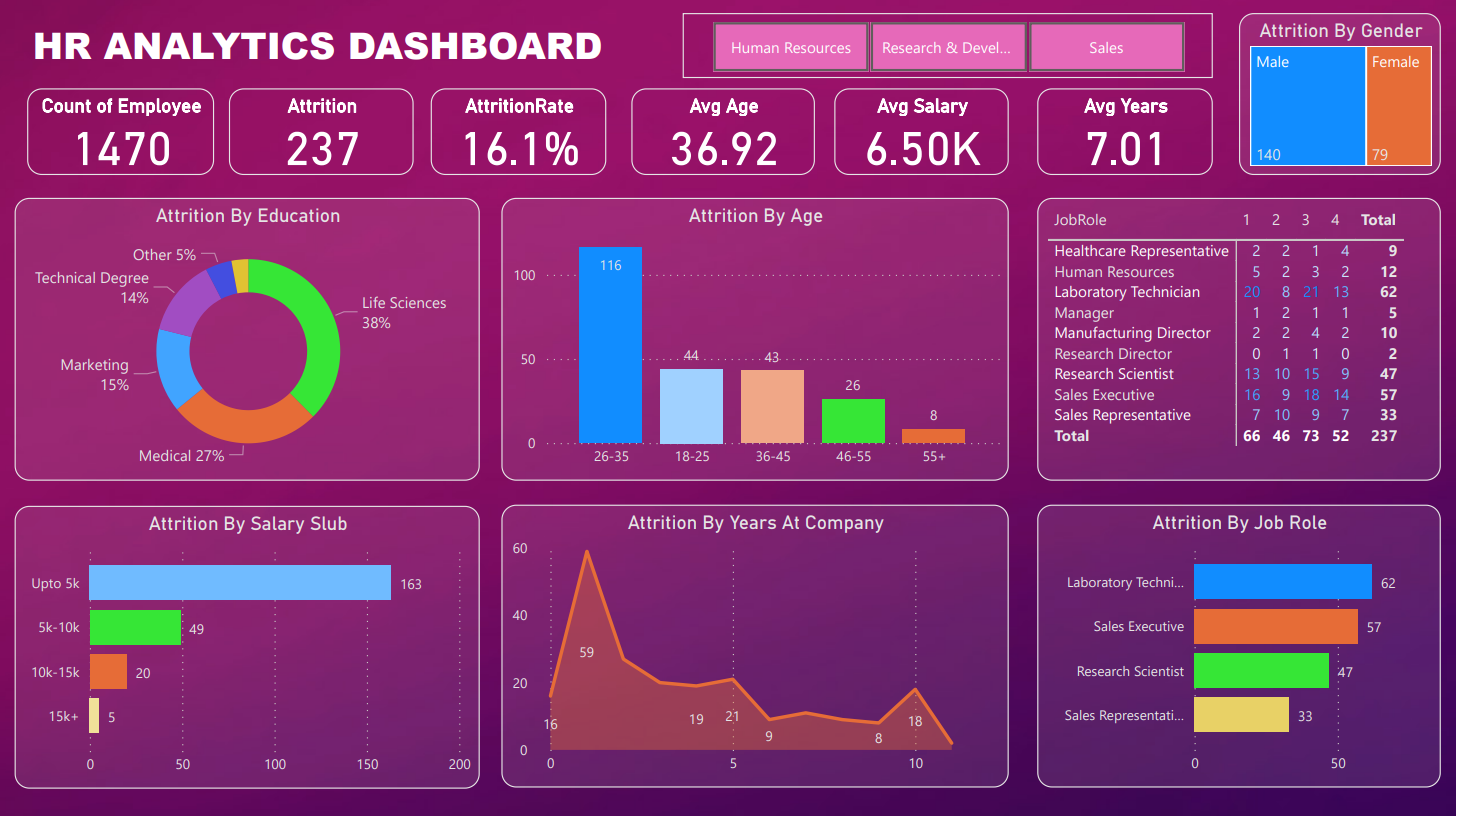

Layout of this report page (visuals, bound fields, positions):
{"tool":"powerbi","page":{"name":"Page 1","canvas":[1280,720],"ordinal":0},"visuals":[{"type":"card","title":"Count of Employee","fields":{"Values":["CountNonNull(HR_Analytics.EmpID)"]},"box":[27.4,78.1,163.2,75.4],"z":0},{"type":"card","title":"Attrition","fields":{"Values":["Sum(HR_Analytics.AttritionCount)"]},"box":[204.3,78.1,161.8,75.4],"z":1000},{"type":"card","title":"AttritionRate","fields":{"Values":["HR_Analytics.AttritionRate"]},"box":[381.4,78.4,153.6,75.4],"z":2000},{"type":"card","title":"Avg Age","fields":{"Values":["Avg(HR_Analytics.Age)"]},"box":[556.6,78.1,161.8,75.4],"z":3000},{"type":"card","title":"Avg Salary","fields":{"Values":["Avg(HR_Analytics.MonthlyIncome)"]},"box":[734.9,78.1,153.6,75.4],"z":4000},{"type":"card","title":"Avg Years","fields":{"Values":["Avg(HR_Analytics.YearsAtCompany)"]},"box":[913.1,78.1,153.6,75.4],"z":5000},{"type":"donutChart","title":"Attrition By Education","fields":{"Category":["HR_Analytics.EducationField"],"Y":["Sum(HR_Analytics.AttritionCount)"]},"box":[16.5,174.1,407.2,248.2],"z":6000},{"type":"columnChart","title":"Attrition By Age","fields":{"Category":["HR_Analytics.AgeGroup"],"Y":["Sum(HR_Analytics.AttritionCount)"]},"box":[442.8,174.1,445.6,248.2],"z":7000},{"type":"pivotTable","fields":{"Rows":["HR_Analytics.JobRole"],"Columns":["HR_Analytics.JobSatisfaction"],"Values":["Sum(HR_Analytics.AttritionCount)"]},"box":[913.1,174.1,353.7,248.2],"z":8000},{"type":"barChart","title":"Attrition By Salary Slub","fields":{"Category":["HR_Analytics.SalarySlab"],"Y":["Sum(HR_Analytics.AttritionCount)"]},"box":[16.5,444.2,407.2,248.2],"z":9000},{"type":"barChart","title":"Attrition By Job Role","fields":{"Category":["HR_Analytics.JobRole"],"Y":["Sum(HR_Analytics.AttritionCount)"]},"box":[913.1,442.8,353.7,248.2],"z":10000},{"type":"stackedAreaChart","title":"Attrition By Years At Company","fields":{"Category":["HR_Analytics.YearsAtCompany"],"Y":["Sum(HR_Analytics.AttritionCount)"]},"box":[442.8,442.8,445.6,248.2],"z":11000},{"type":"treemap","title":"Attrition By Gender","fields":{"Group":["HR_Analytics.Gender"],"Values":["Sum(HR_Analytics.AttritionCount)"]},"box":[1090,12.3,176.9,141.2],"z":12000},{"type":"slicer","fields":{"Values":["HR_Analytics.Department"]},"box":[601.9,12.3,464.8,56.2],"z":13000},{"type":"textbox","box":[27.4,12.3,518.3,56.2],"z":14000}]}

Visuals, with their boxes in screenshot pixels (x1, y1, x2, y2), scaled from the page's 1280x720 canvas onto the 1458x816 screenshot:
"Count of Employee" card: bbox=(31, 89, 217, 174)
"Attrition" card: bbox=(233, 89, 417, 174)
"AttritionRate" card: bbox=(434, 89, 609, 174)
"Avg Age" card: bbox=(634, 89, 818, 174)
"Avg Salary" card: bbox=(837, 89, 1012, 174)
"Avg Years" card: bbox=(1040, 89, 1215, 174)
"Attrition By Education" donutChart: bbox=(19, 197, 483, 479)
"Attrition By Age" columnChart: bbox=(504, 197, 1012, 479)
pivotTable - HR_Analytics.JobRole x HR_Analytics.JobSatisfaction: bbox=(1040, 197, 1443, 479)
"Attrition By Salary Slub" barChart: bbox=(19, 503, 483, 785)
"Attrition By Job Role" barChart: bbox=(1040, 502, 1443, 783)
"Attrition By Years At Company" stackedAreaChart: bbox=(504, 502, 1012, 783)
"Attrition By Gender" treemap: bbox=(1242, 14, 1443, 174)
slicer - HR_Analytics.Department: bbox=(686, 14, 1215, 78)
textbox: bbox=(31, 14, 622, 78)
